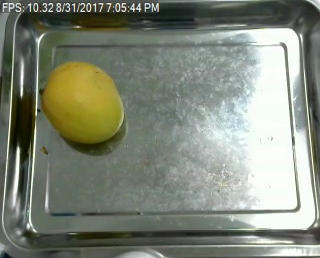Mango: (43, 65, 125, 144)
